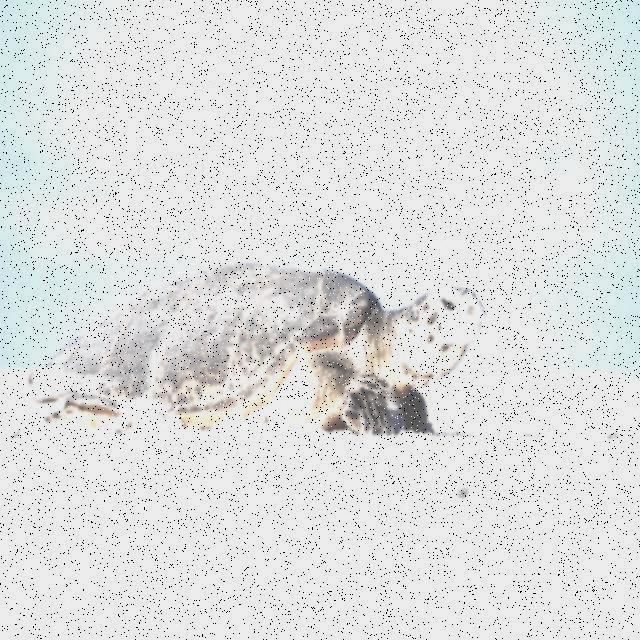tortoise: (0, 259, 477, 488)
